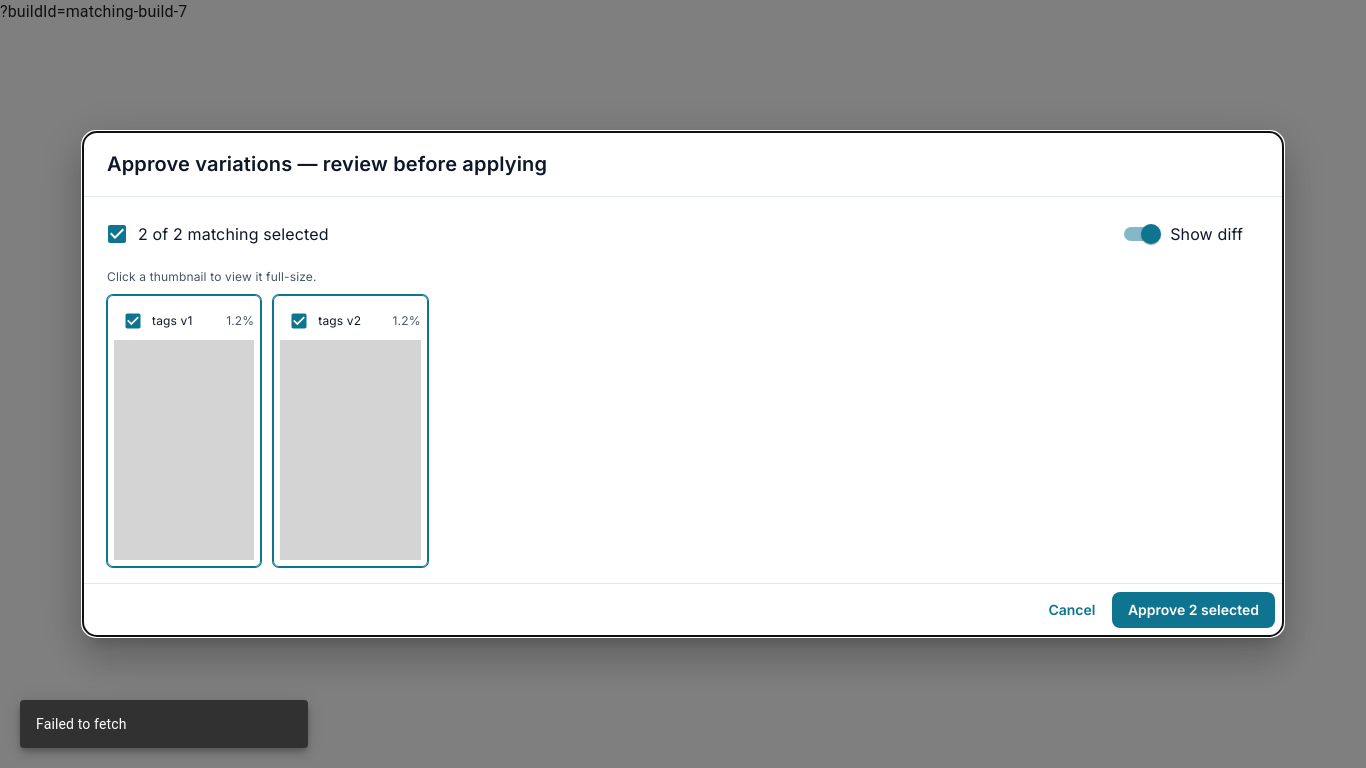
it: MatchingVariationsDialog › submitting › keeps the dialog open and the ticks when every run failed
Expected: the text "Click a thumbnail to view it full-size." is shown, [107,269,317,284]
Click the button "Approve 2 selected": x=1193, y=610 [1112,592,1275,628]
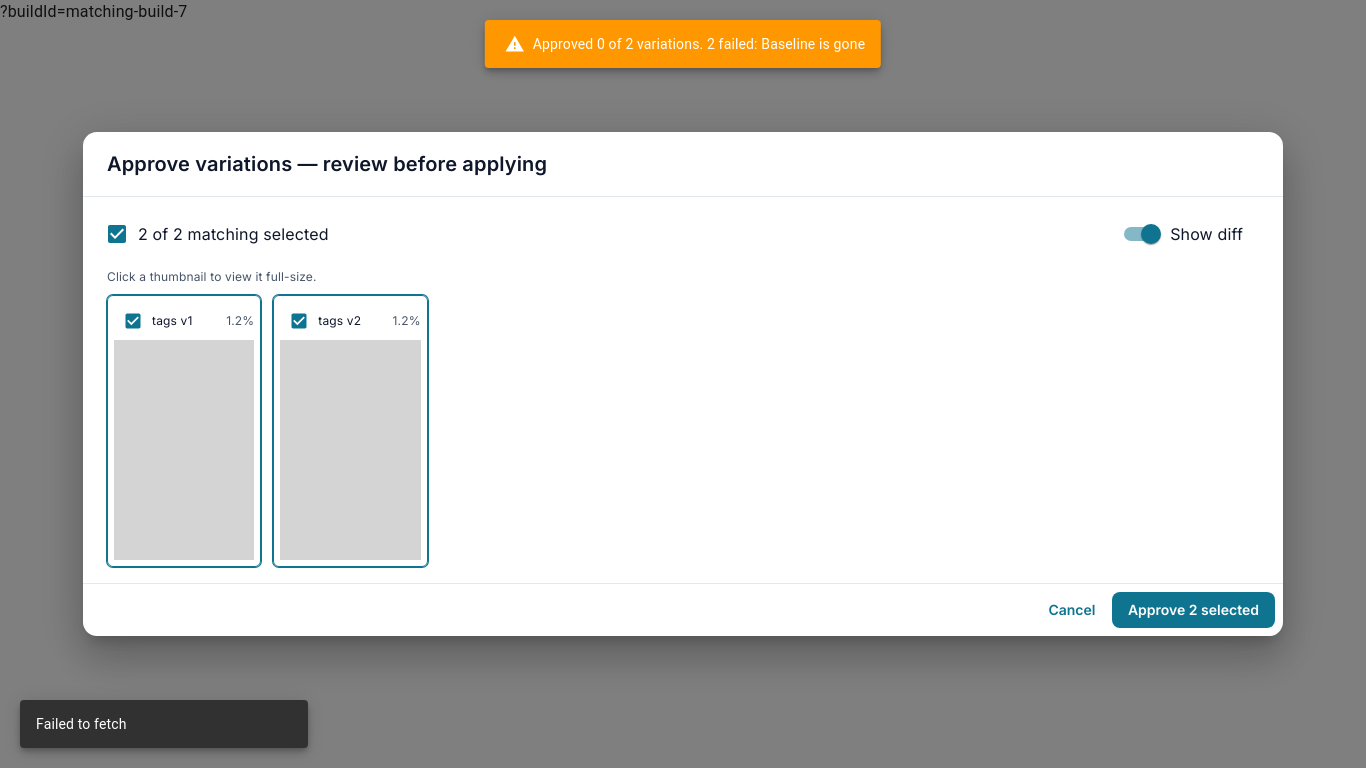
Expected: the text "Approved 0 of 2 variations. 2 failed: Baseline is gone" is shown, [505,34,865,54]
